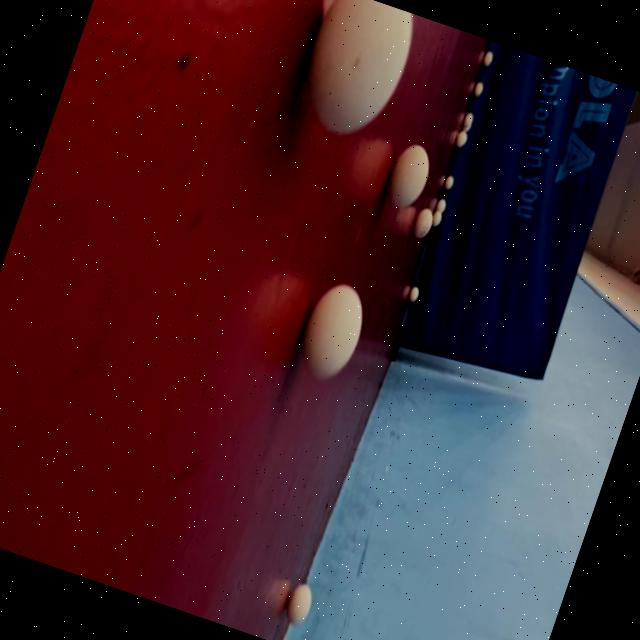ping-pong-ball: (275, 0, 432, 143), (278, 259, 388, 395), (378, 125, 446, 218), (269, 571, 326, 640), (405, 192, 441, 250), (462, 72, 491, 108), (398, 276, 425, 314), (450, 106, 478, 136), (474, 43, 500, 75), (429, 195, 452, 219), (426, 214, 444, 237), (438, 172, 456, 192), (452, 126, 468, 148)
